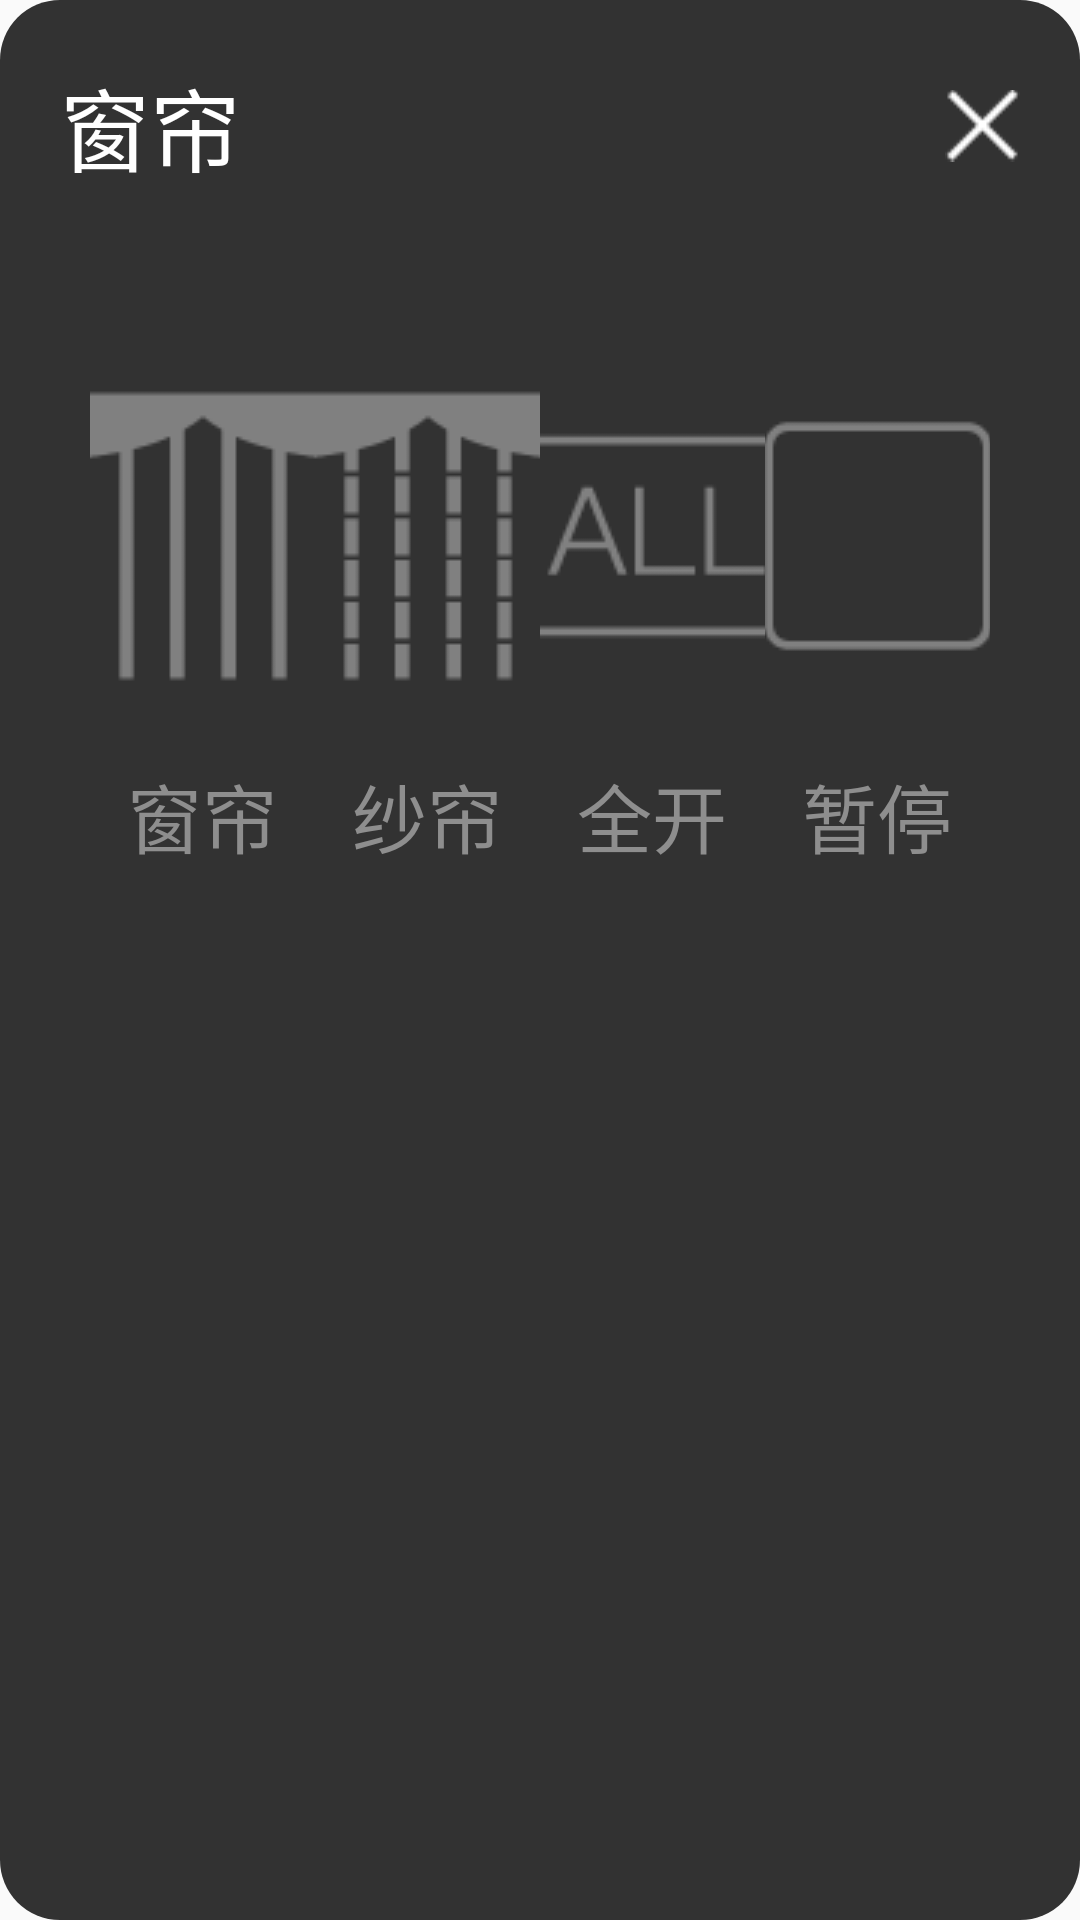

Icons on this 1080*1920 Android screen, each with the point to tap as (x,y):
close: (1013,81)
